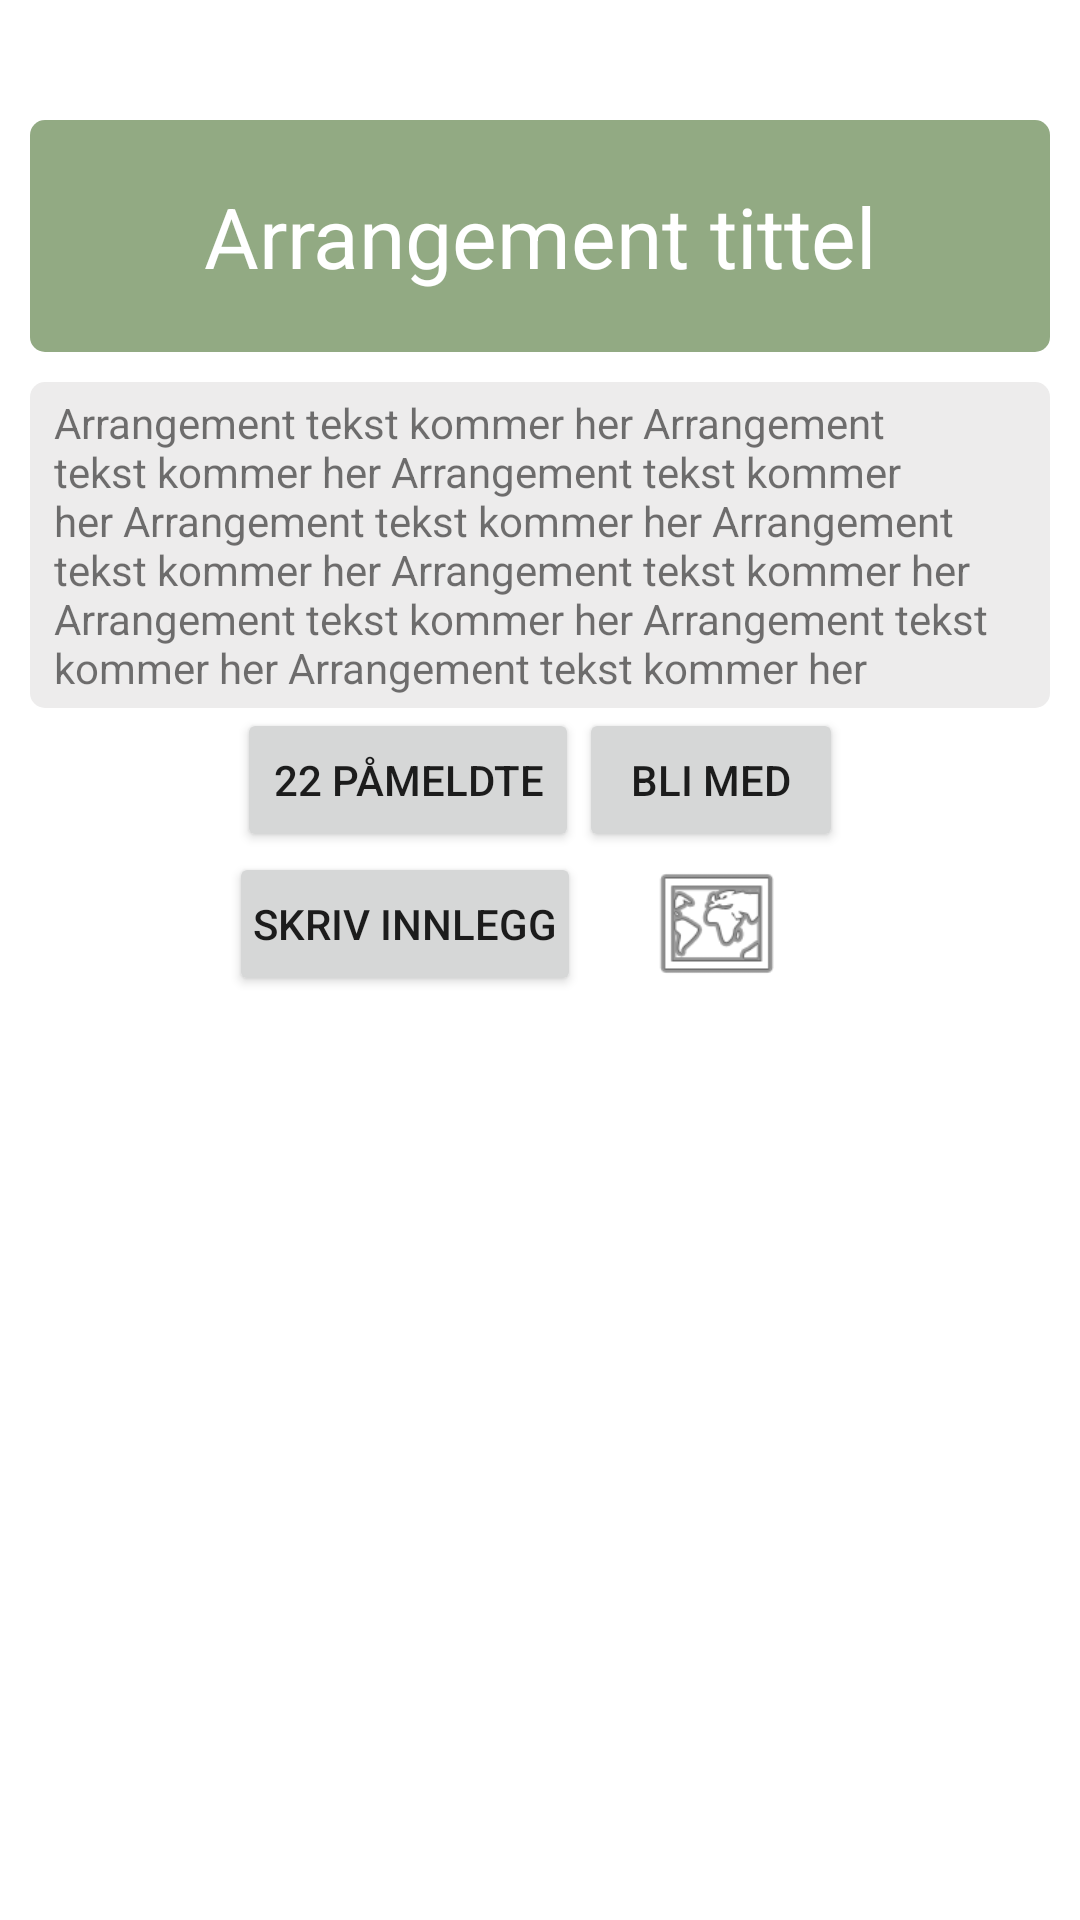

Point at icon controls on the screen. Image size 1080 x 1920, points as point (x, y).
mapmode: point (716, 923)
